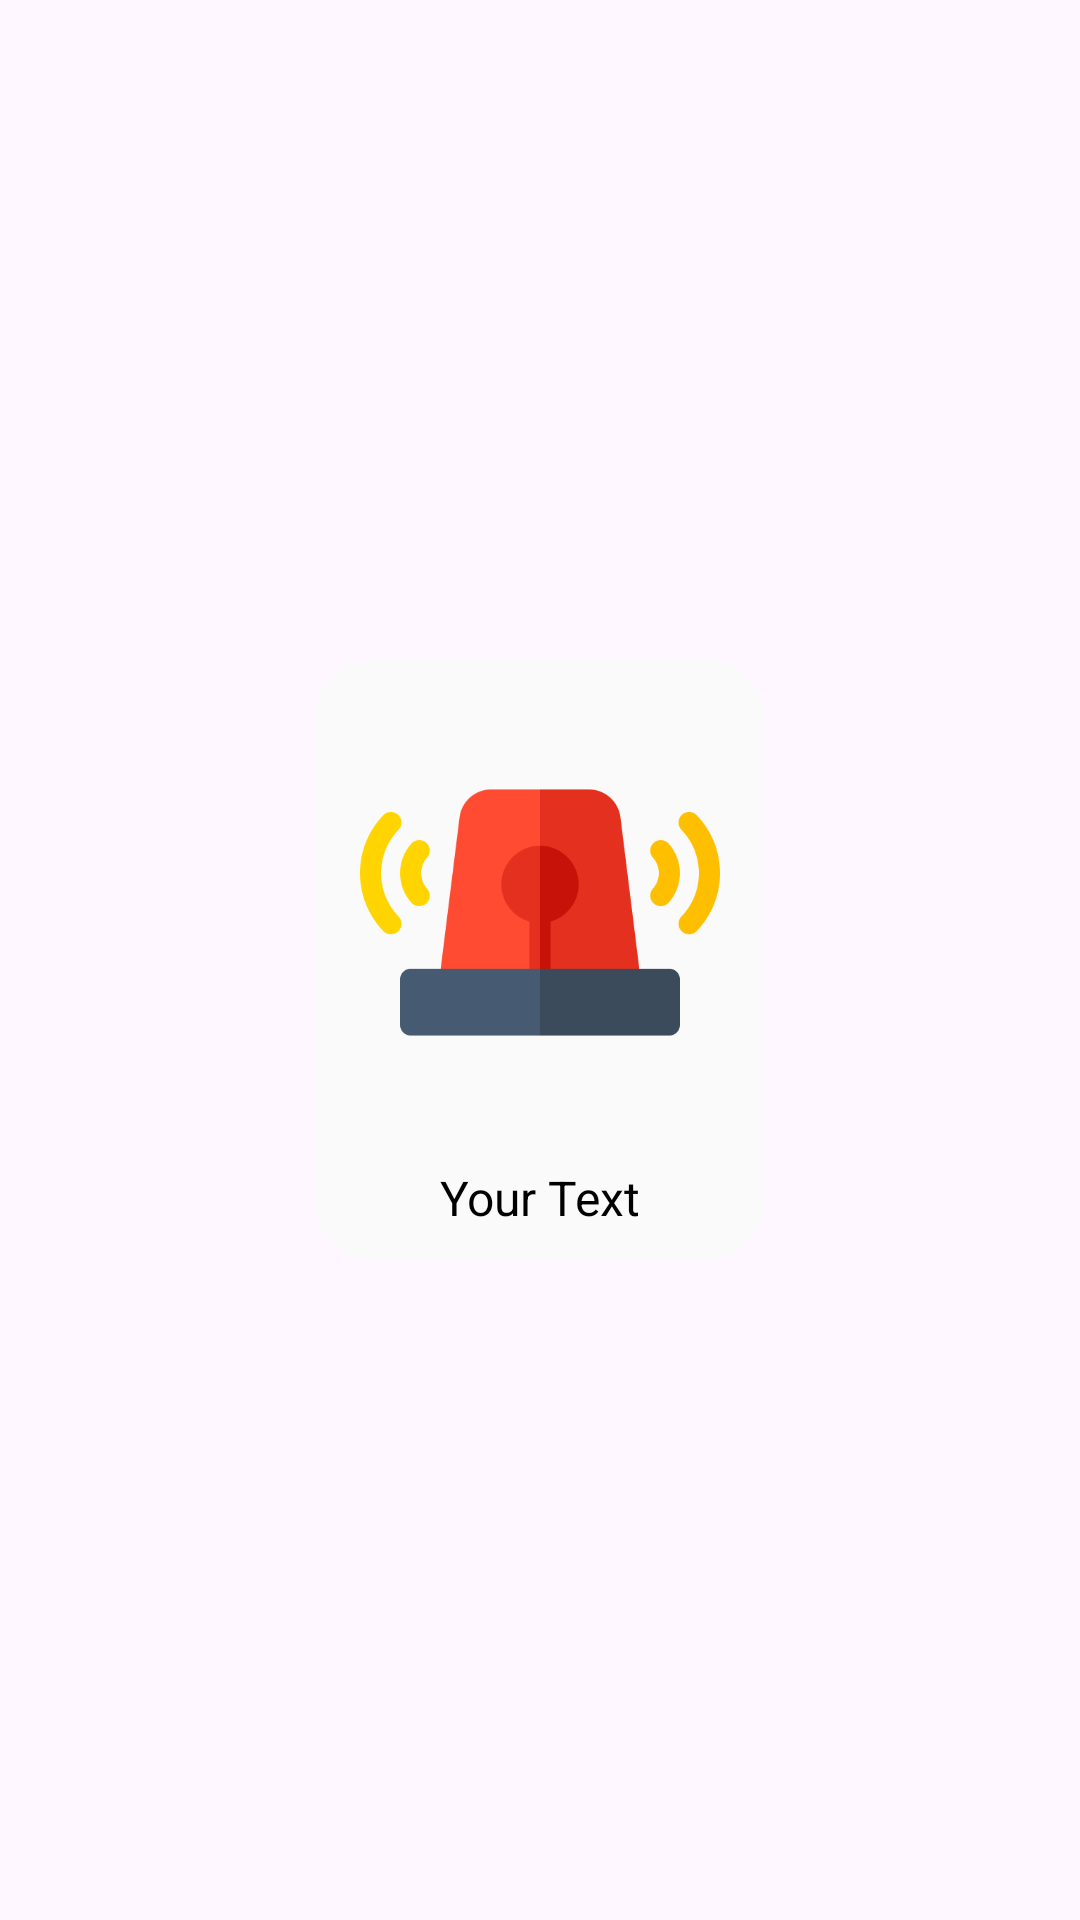

Screen size 1080 × 1920. Icon name, then its box in pixels as (x1, y1, x2, y2):
alarm: (360, 789, 720, 1036)
